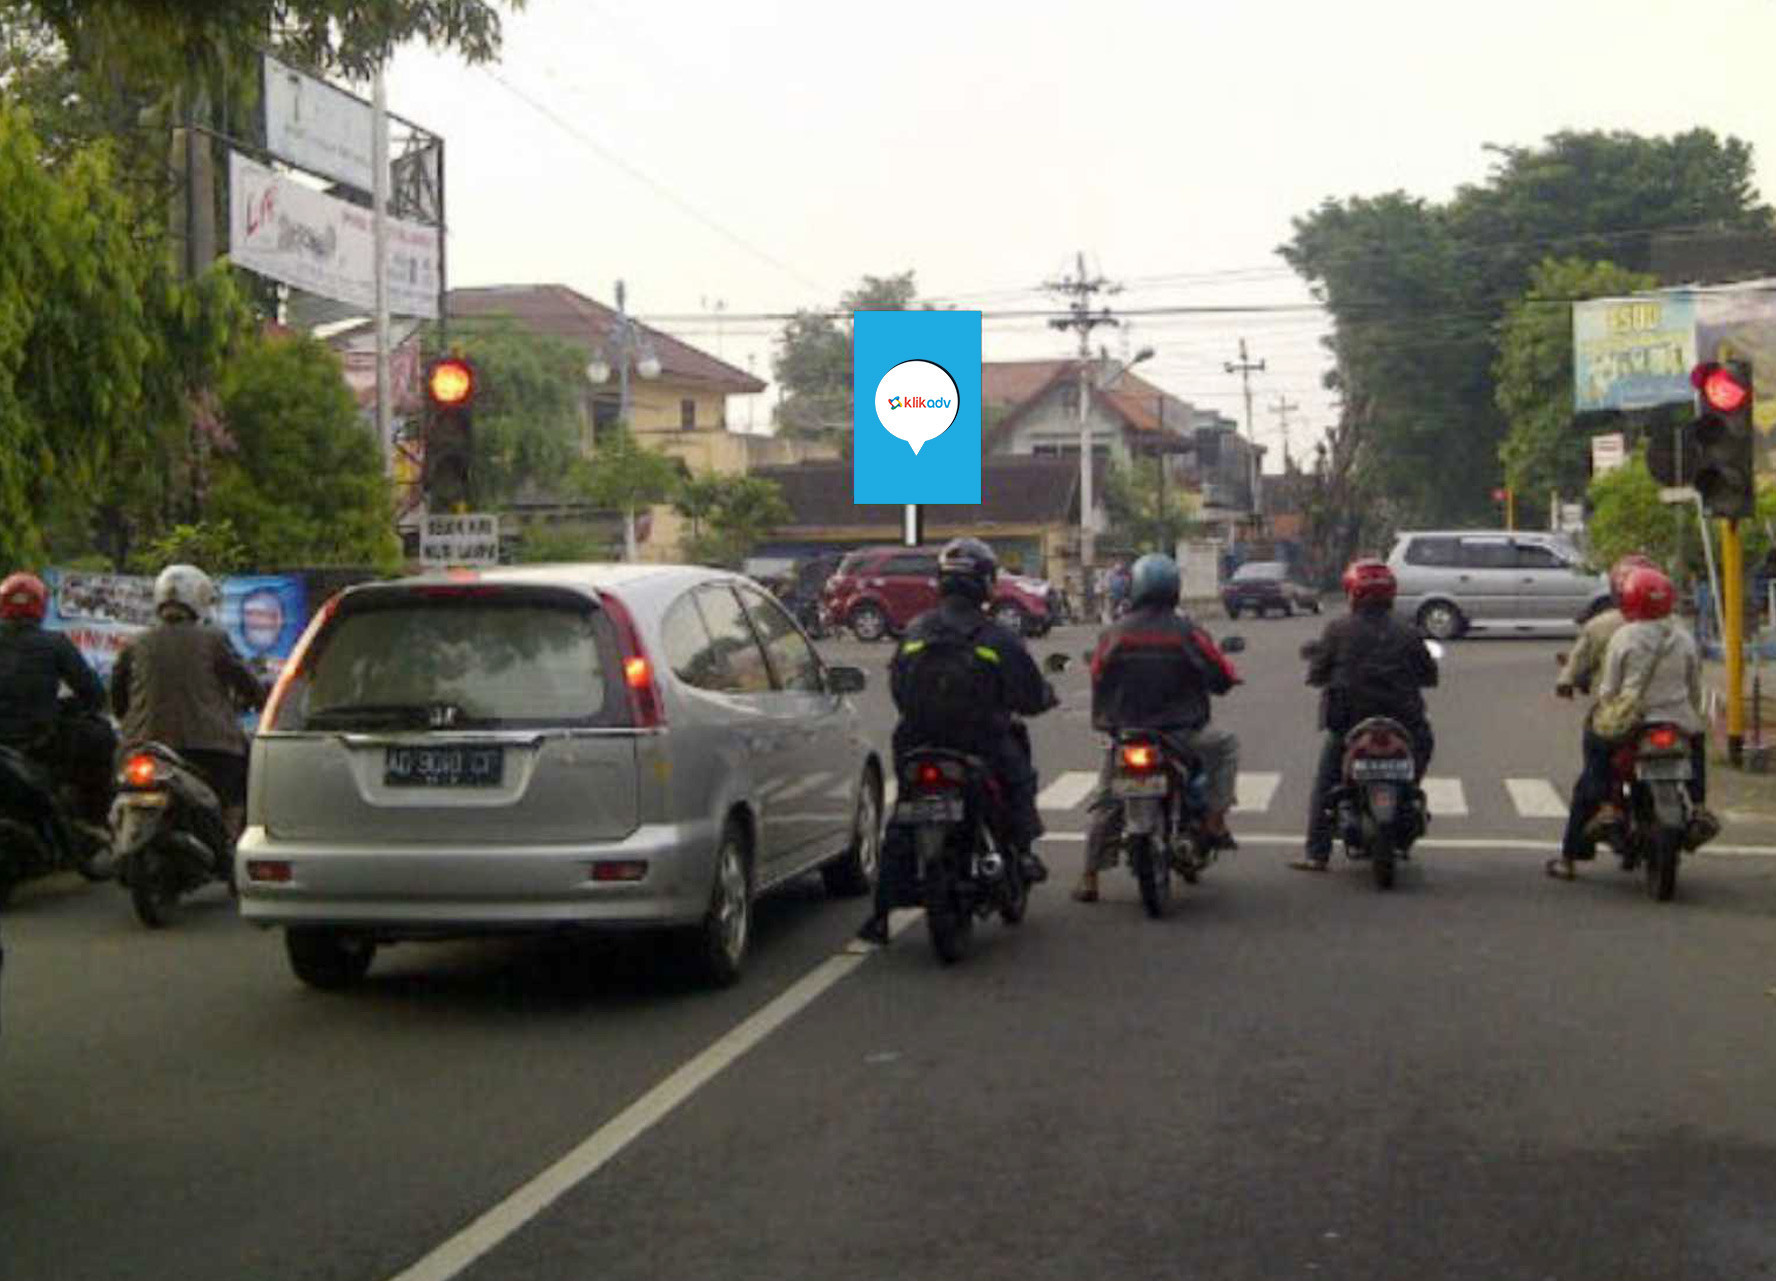plate: (377, 739, 515, 784), (1340, 750, 1428, 784), (895, 794, 970, 829), (1630, 762, 1699, 790), (1105, 776, 1175, 801)
